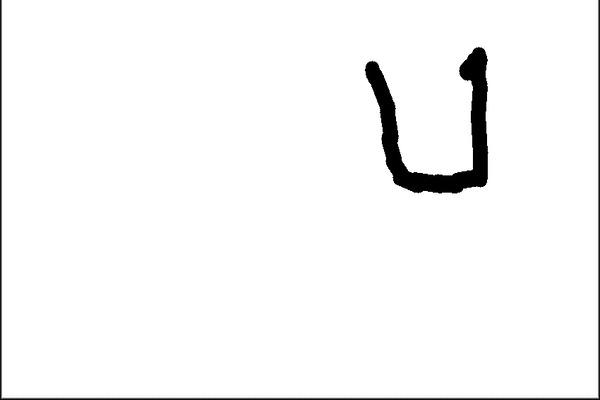U: (346, 33, 503, 197)
